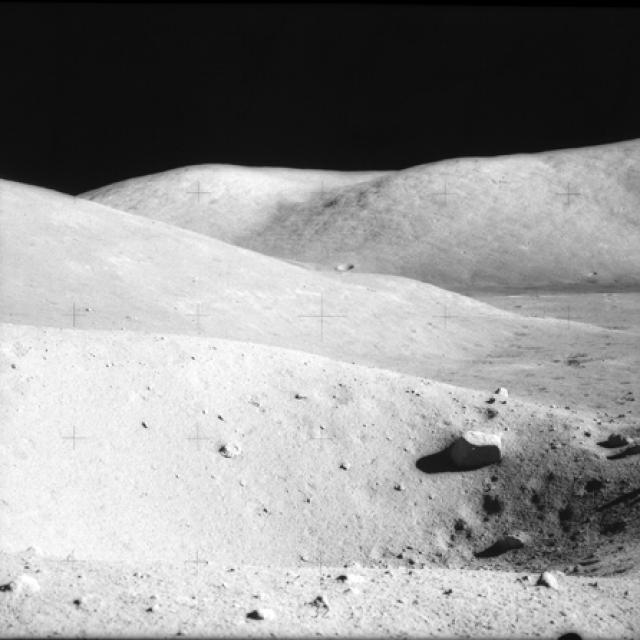crater: (0, 357, 637, 590)
rock: (432, 424, 507, 466), (492, 530, 536, 554), (533, 563, 573, 589), (244, 598, 276, 622), (217, 436, 244, 463), (486, 376, 512, 404)
